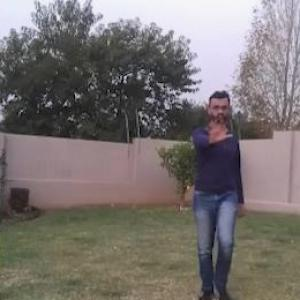follow_hand: (203, 115, 231, 143)
